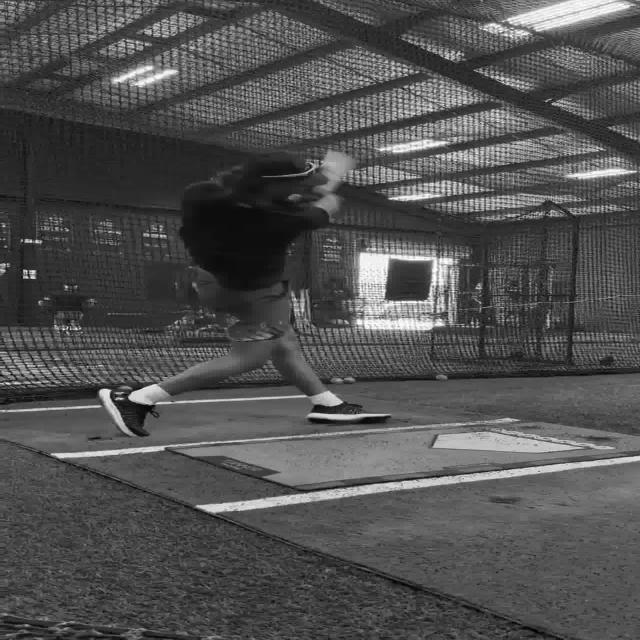base: (432, 431, 580, 453)
baseball: (329, 377, 343, 384), (435, 374, 447, 381), (343, 377, 355, 384)
bat: (298, 150, 356, 203)
shoe: (97, 386, 157, 437), (306, 402, 392, 424)
